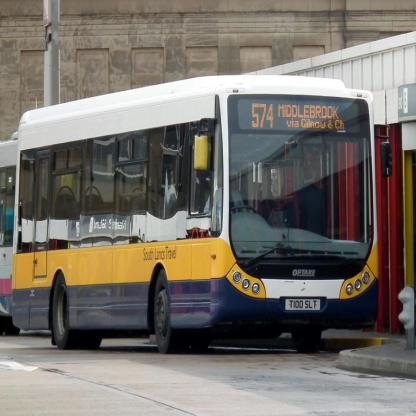Bus: (12, 75, 379, 354), (0, 139, 21, 335)
